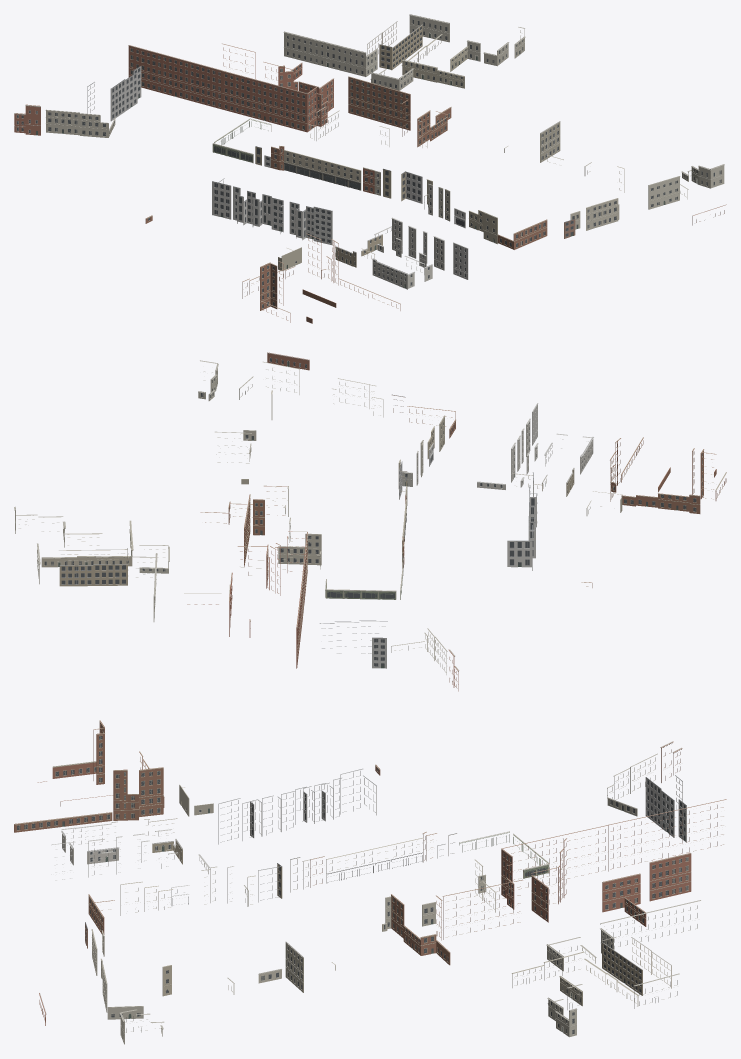
3 renders of one model, top to bottom at view 1: azimuth 30°, elevation 25°; view 2: azimuth 150°, elevation 25°; view 3: azimuth 270°, elevation 25°, orthographic. The views are drawn at different scales.
Visible parts, largest first — view 1: f:way/39640956, f:way/107708970, f:way/134121282, f:way/13221124, f:way/136211502, f:way/134053933, f:way/134022603, f:way/136211520, f:way/134800793, f:way/134022564, f:way/134022560, f:way/13221340 (+12 smaller); view 2: f:way/136211502, f:way/134800793, f:way/39640956, f:way/107708970, f:way/134022572, f:way/13221340, f:way/134121282, f:way/136211520, f:way/134022602, f:way/134022564; view 3: f:way/39640956, f:way/136211502, f:way/107708970, f:way/134121282, f:way/134022564, f:way/134800793, f:way/134022572, f:way/13221340, f:way/136211515, f:way/134800770, f:way/134121284, f:way/134022597 (+5 smaller).
Part boxes in pixels (box(x1,y1,x2,y2)): f:way/39640956: box(128, 43, 333, 132); f:way/107708970: box(212, 178, 332, 245); f:way/134121282: box(348, 76, 451, 147); f:way/13221124: box(283, 31, 377, 76); f:way/136211502: box(242, 233, 400, 323); f:way/134053933: box(283, 150, 361, 190); f:way/134022603: box(45, 109, 115, 137); f:way/136211520: box(374, 217, 444, 270); f:way/134800793: box(367, 21, 422, 70); f:way/134022564: box(87, 66, 141, 121); f:way/134022560: box(570, 198, 619, 230); f:way/13221340: box(401, 34, 468, 82); f:way/136211502: box(610, 437, 716, 513); f:way/134800793: box(59, 548, 128, 586); f:way/39640956: box(184, 531, 307, 668); f:way/107708970: box(507, 472, 537, 570); f:way/134022572: box(278, 486, 321, 569); f:way/13221340: box(41, 532, 133, 567); f:way/134121282: box(200, 485, 288, 566); f:way/136211520: box(477, 418, 538, 489); f:way/134022602: box(325, 568, 403, 599); f:way/134022564: box(319, 620, 387, 668); f:way/39640956: box(501, 799, 726, 926); f:way/136211502: box(14, 720, 164, 832); f:way/107708970: box(218, 768, 376, 844); f:way/134121282: box(391, 879, 522, 965); f:way/134022564: box(645, 775, 686, 842); f:way/134800793: box(602, 937, 671, 995); f:way/134022572: box(382, 859, 496, 931); f:way/13221340: box(544, 951, 638, 1006); f:way/136211515: box(61, 821, 119, 865); f:way/134800770: box(547, 984, 582, 1037); f:way/134121284: box(285, 941, 335, 992); f:way/134022597: box(102, 964, 143, 1019).
Size of the model in its own units: 253 by 25.59 by 274.
